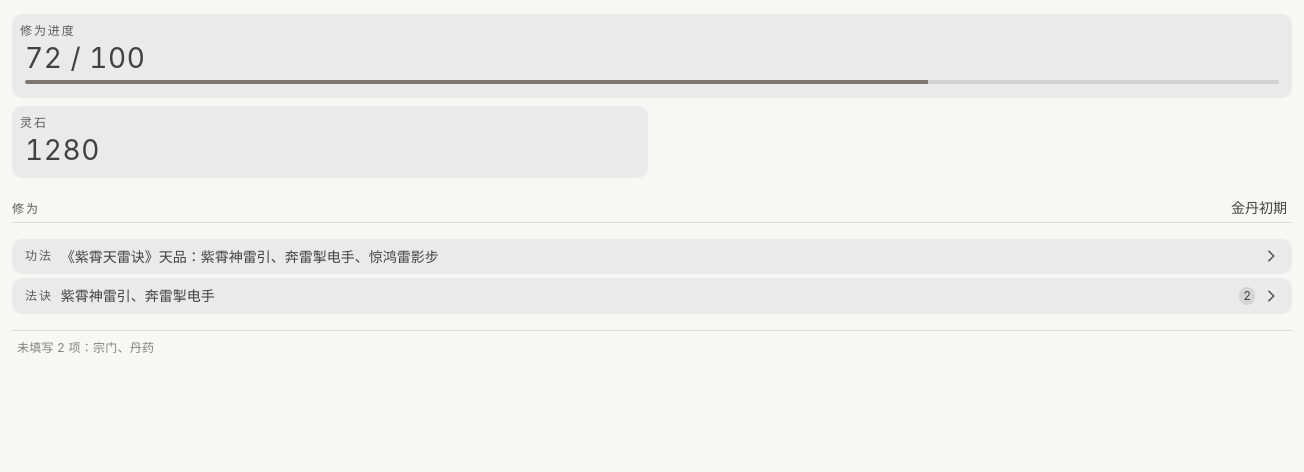
Test case: 角色面板排法：数值做读数格，短值进规格表，长值折成档案条，没填的压成一行
This screenshot has width=1304, height=472.
Expected: the text with class "we-status-value" has style "--status-fill: 0.72", [25, 41, 145, 75]
Click the button "法诀 紫霄神雷引、奔雷掣电手 2" at (138,296), box [20, 286, 1284, 306]
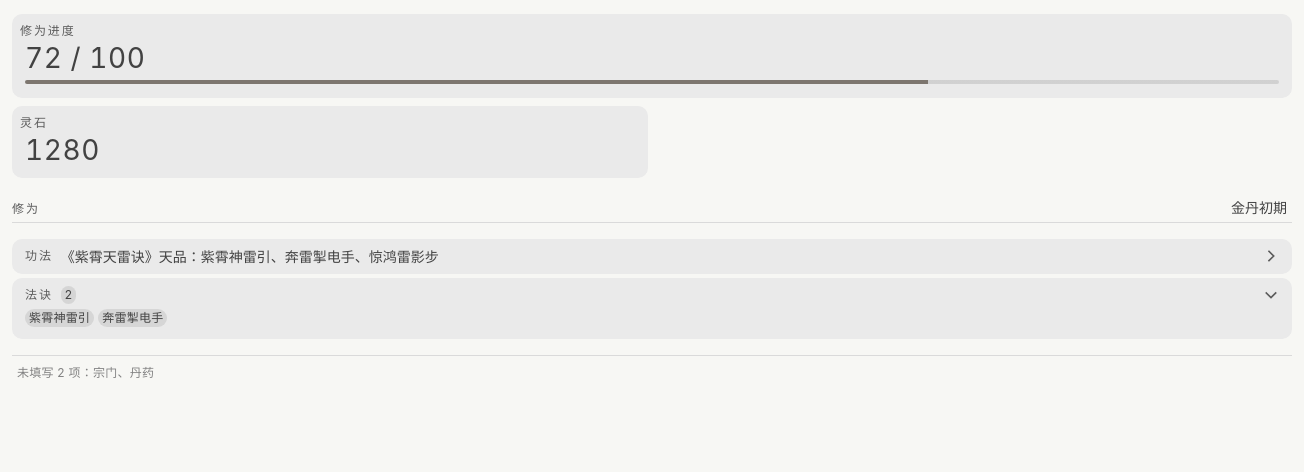
Result: the button "法诀 2" is expanded at [20, 286, 1284, 304]
Result: the element with class "we-status-tags" is shown at [25, 309, 167, 327]
Click the button "未填写 2 项：宗门、丹药" at (86,373), box [12, 355, 1292, 382]
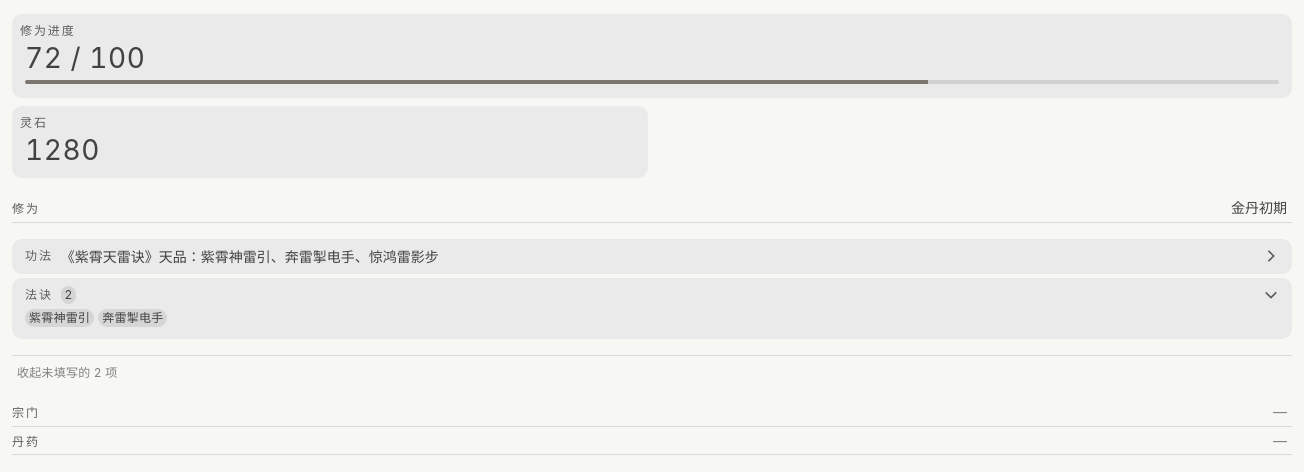
Result: the button "收起未填写的 2 项" is expanded at [12, 355, 1292, 382]
